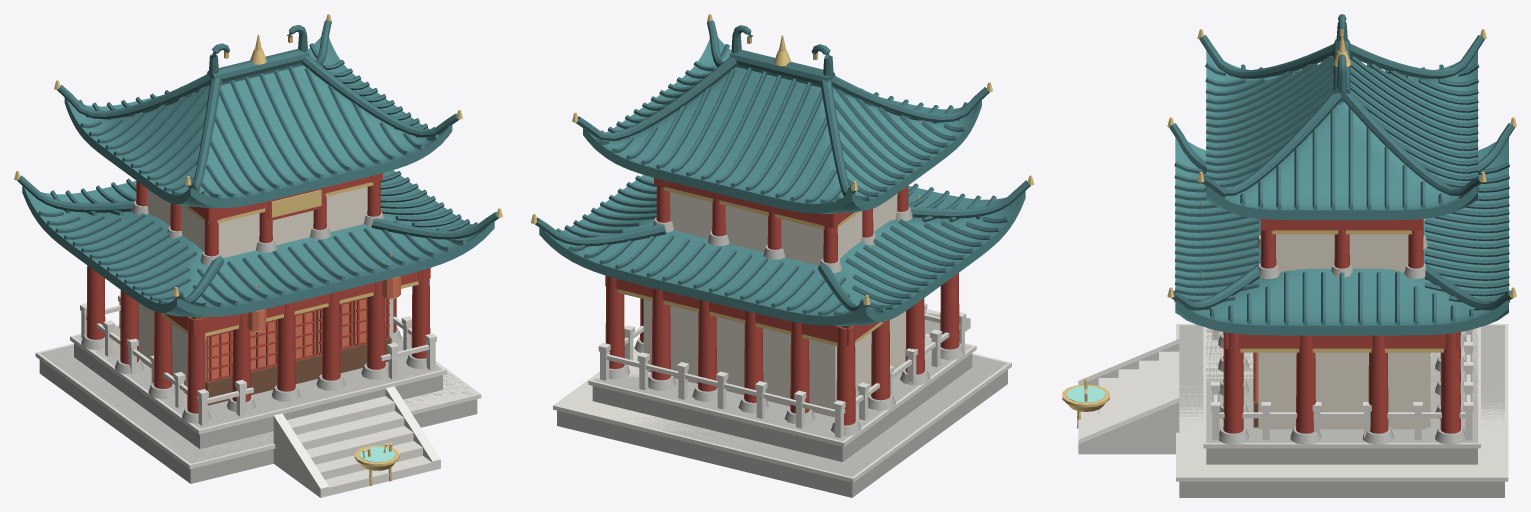
The model's file is SonMon_hall.fbx.
The picture shows the model from 3 angles, left to right: view 1: azimuth 30°, elevation 25°; view 2: azimuth 150°, elevation 25°; view 3: azimuth 270°, elevation 25°; orthographic projection. The views are drawn at different scales.
Visible parts, largest first — view 1: hall; view 2: hall; view 3: hall.
Boxes of the visible parts, left/top/right/bottom form: hall: left=14, top=14, right=502, bottom=497; hall: left=531, top=14, right=1033, bottom=497; hall: left=1062, top=14, right=1516, bottom=497.
Size of the model in its own units: 5.29 by 5.5 by 5.86.
